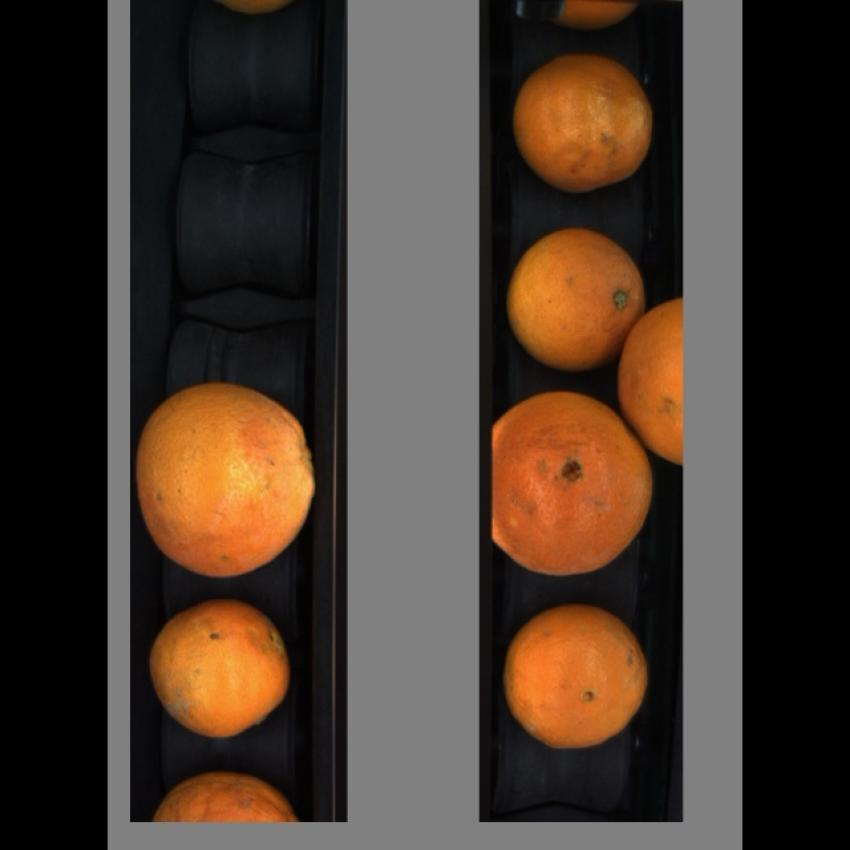Buen estado: (502, 220, 653, 372), (618, 293, 680, 472)
Mal estado: (134, 374, 322, 580), (491, 391, 664, 580), (140, 593, 316, 746), (497, 599, 666, 756), (507, 47, 669, 193), (147, 766, 307, 824)
